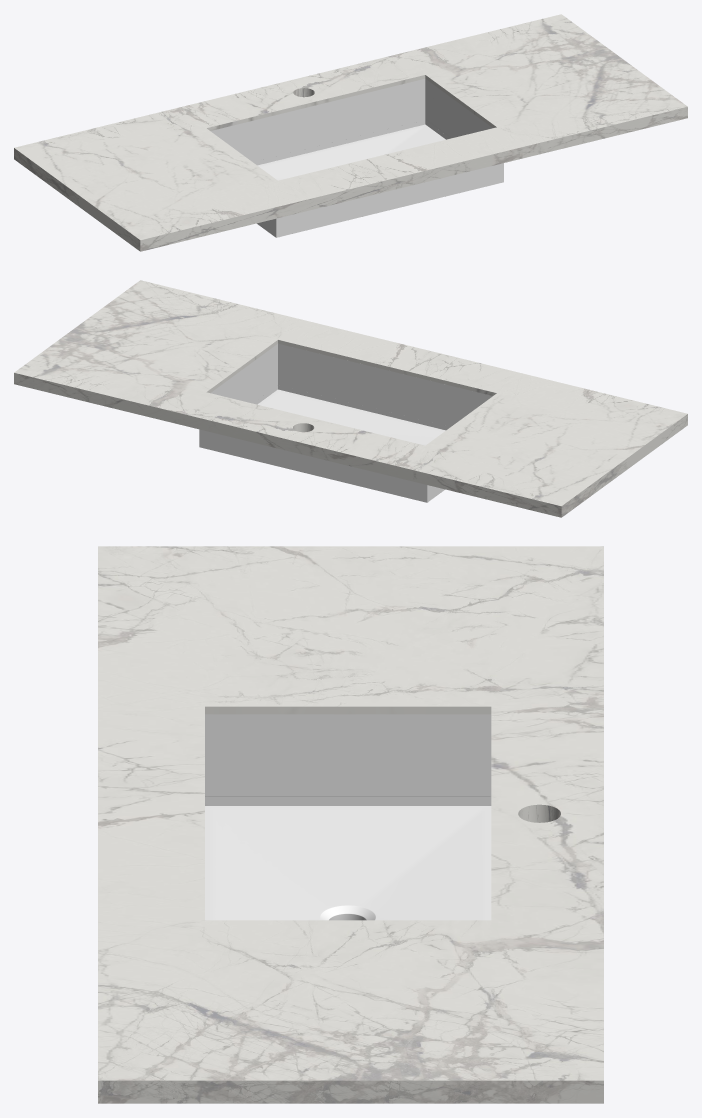
Rendered from GLS9120.glb.
The picture shows the model from 3 angles, top to bottom: view 1: azimuth 30°, elevation 25°; view 2: azimuth 150°, elevation 25°; view 3: azimuth 270°, elevation 25°; orthographic projection. The views are drawn at different scales.
Parts seen in each view (by area): view 1: GLS 9120 cer, GLS 9120 (встраиваемая); view 2: GLS 9120 cer, GLS 9120 (встраиваемая); view 3: GLS 9120 cer, GLS 9120 (встраиваемая).
Part boxes in pixels (bbox=[...]): GLS 9120 cer: bbox=[14, 14, 687, 251]; GLS 9120 (встраиваемая): bbox=[210, 78, 503, 237]; GLS 9120 cer: bbox=[14, 280, 687, 517]; GLS 9120 (встраиваемая): bbox=[199, 343, 492, 502]; GLS 9120 cer: bbox=[98, 546, 603, 1103]; GLS 9120 (встраиваемая): bbox=[205, 714, 491, 920].
Bounding box in the file's own units: 1.5 × 0.154 × 0.6.
Materials: 3 (1 with a texture image).
